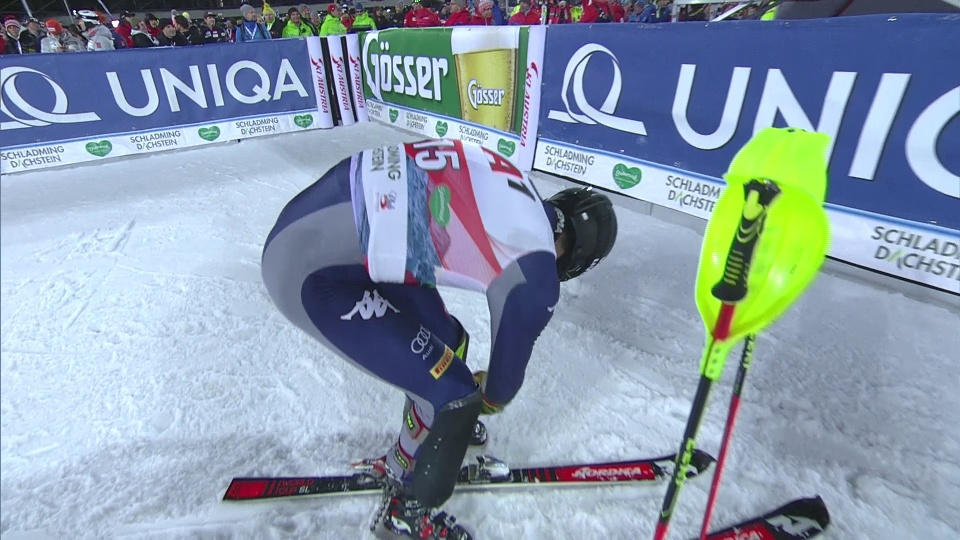a1: (484, 152, 534, 198)
goesser: (366, 30, 473, 110), (467, 77, 510, 115)
schladming: (857, 217, 960, 288), (664, 179, 730, 219), (534, 149, 602, 177), (5, 147, 67, 168), (237, 116, 284, 136), (135, 134, 182, 154)
steiermark: (609, 162, 647, 191), (83, 140, 116, 160), (197, 124, 227, 144), (496, 139, 520, 164), (292, 113, 318, 132), (434, 120, 453, 140)
uniqa: (538, 16, 960, 151), (1, 49, 312, 132)
